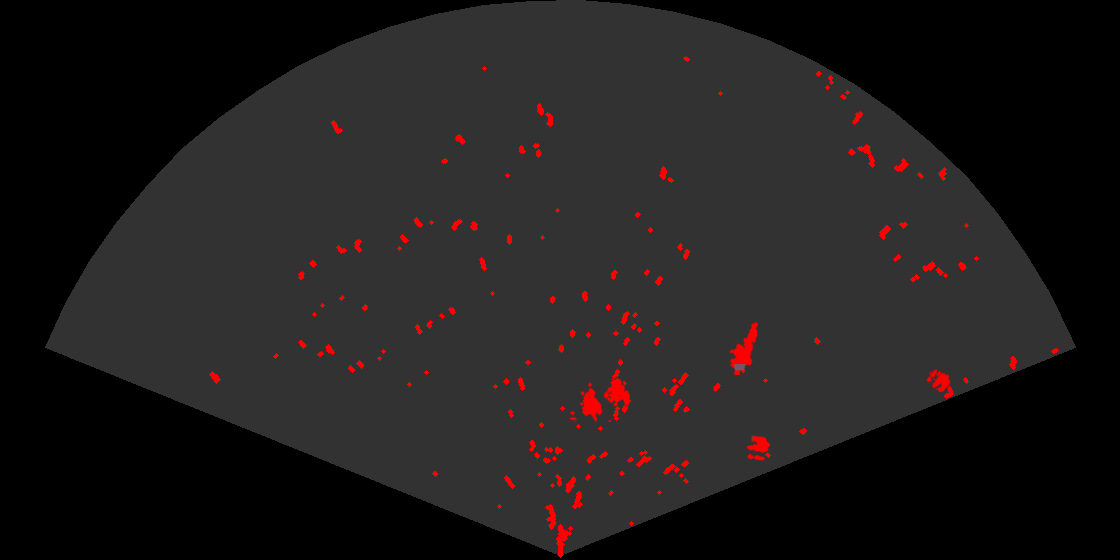ball: (745, 434, 772, 462), (925, 367, 952, 394)
cage: (570, 376, 633, 422)
frogman: (727, 321, 760, 375)
